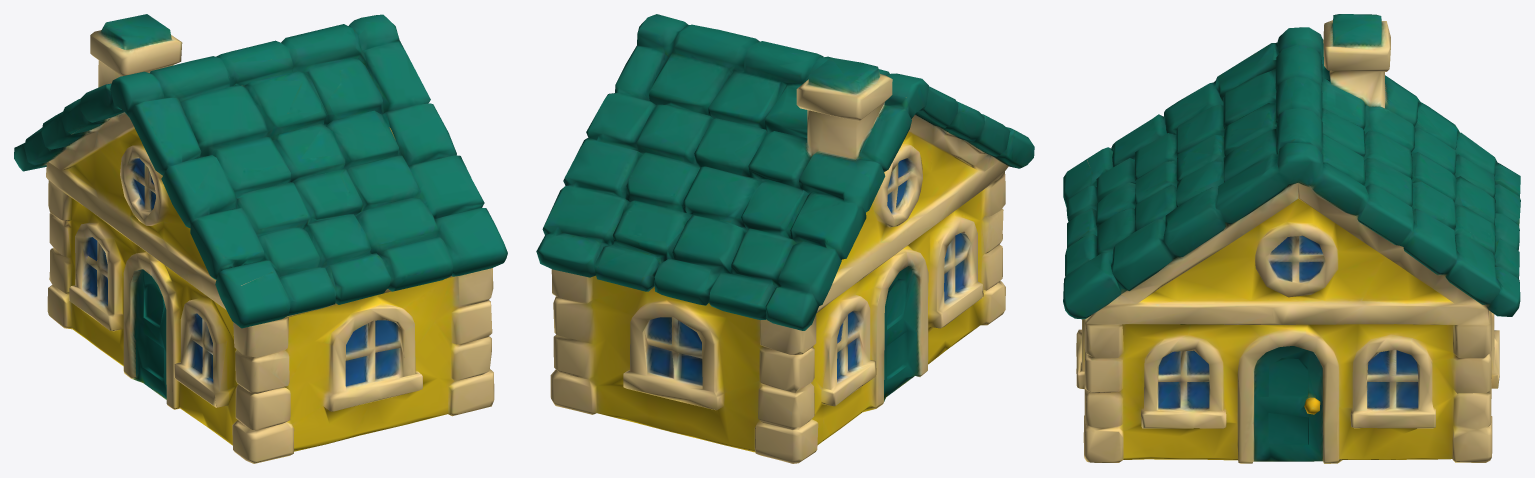
File: house-c.glb
3 views of the same model, side by side, from view 1: azimuth 30°, elevation 25°; view 2: azimuth 150°, elevation 25°; view 3: azimuth 270°, elevation 25° (orthographic). The views are drawn at different scales.
Parts seen in each view (by area): view 1: tripo_node_06a27529-03ae-4dd5-a64c-e4e0ca5af2c9; view 2: tripo_node_06a27529-03ae-4dd5-a64c-e4e0ca5af2c9; view 3: tripo_node_06a27529-03ae-4dd5-a64c-e4e0ca5af2c9.
Part boxes in pixels (x1,y1,x2,y2): tripo_node_06a27529-03ae-4dd5-a64c-e4e0ca5af2c9: [14, 14, 507, 463]; tripo_node_06a27529-03ae-4dd5-a64c-e4e0ca5af2c9: [536, 14, 1034, 463]; tripo_node_06a27529-03ae-4dd5-a64c-e4e0ca5af2c9: [1063, 14, 1520, 463].
Bounding box in the file's own units: 0.7033 × 0.8036 × 1.
1 material, 1 textured.
